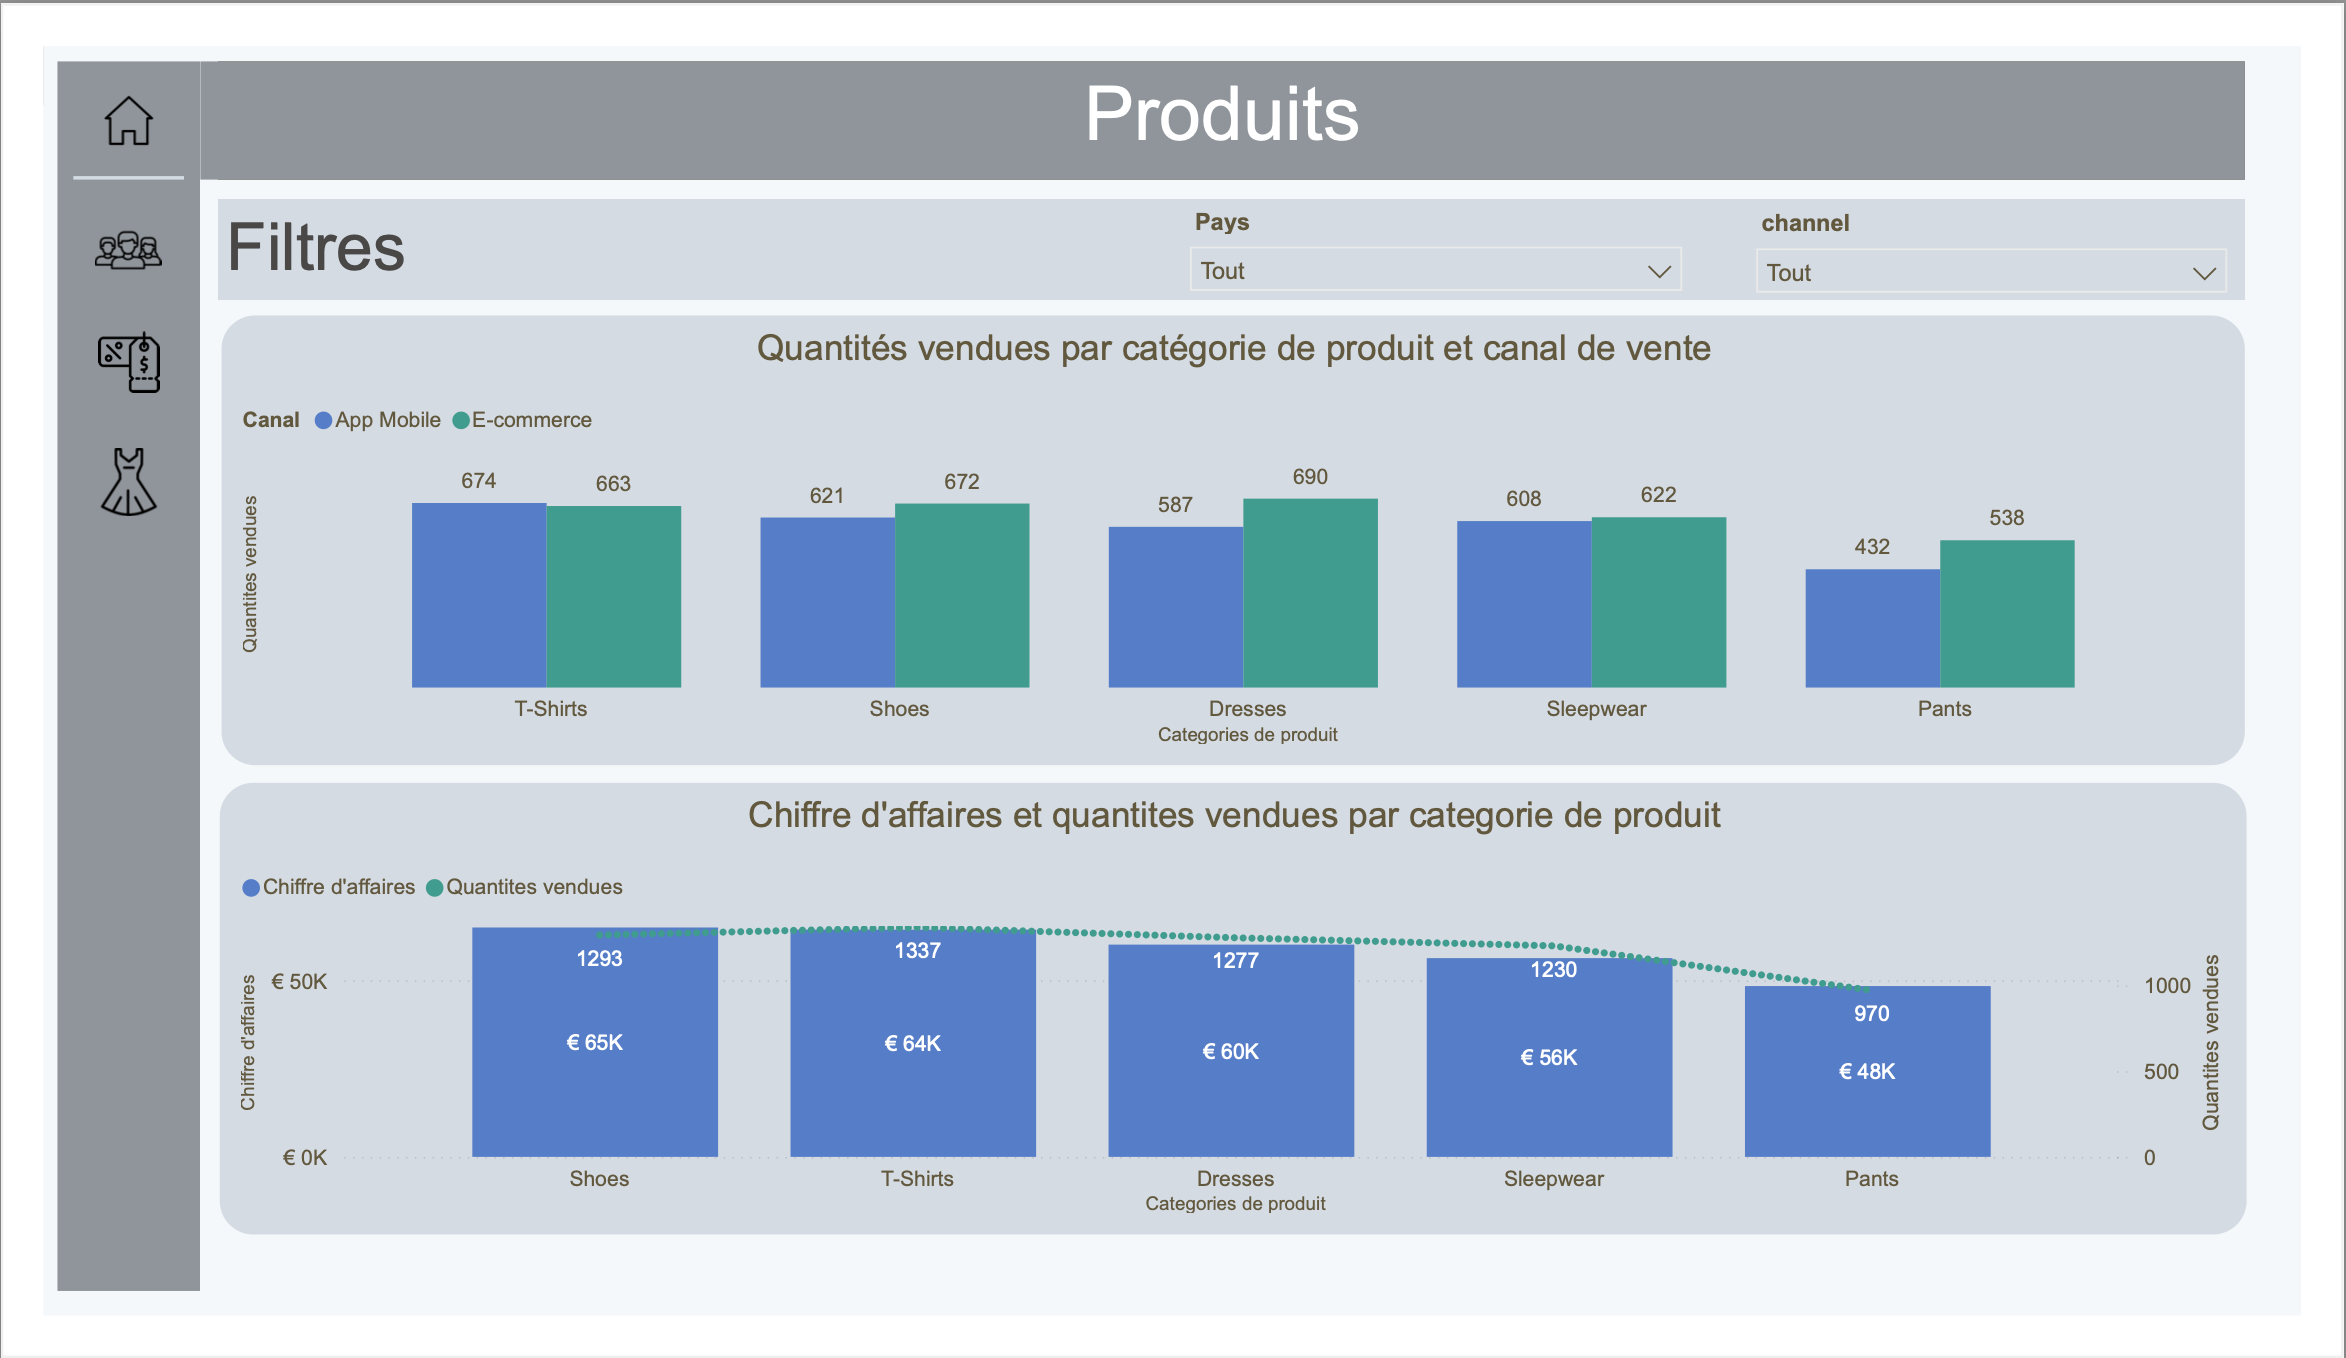

What the dashboard file says about the page in this screenshot:
{"tool":"powerbi","page":{"name":"Produits ","canvas":[1280,720],"ordinal":3},"visuals":[{"type":"shape","box":[99,8.9,1149,67.3],"z":0},{"type":"textbox","box":[89.5,8.7,1158.2,67.1],"z":1000},{"type":"shape","box":[7.8,8.8,81.7,697.4],"z":2000},{"type":"image","box":[33.1,20.4,31.1,44.7],"z":3000},{"type":"image","box":[29.2,86.6,37.9,57.4],"z":4000},{"type":"image","box":[29.2,162.4,37.9,35],"z":5000},{"type":"image","box":[25.3,227.6,46.7,39.9],"z":6000},{"type":"shape","box":[16.5,63.2,63.2,23.3],"z":7000},{"type":"clusteredColumnChart","title":"Quantités vendues par catégorie de produit et canal de vente","fields":{"Category":["Produits.category"],"Series":["Ventes_details.channel"],"Y":["Mesures.Total_quantite"]},"box":[101,152.5,1147.5,255.6],"z":8000},{"type":"lineStackedColumnComboChart","title":"Chiffre d''affaires et quantites vendues par categorie de produit","fields":{"Category":["Produits.category"],"Y":["Mesures.Total_ca"],"Y2":["Mesures.Total_quantite"]},"box":[100,418.2,1149.5,255.6],"z":9000},{"type":"shape","box":[99.4,87,1148.3,57.2],"z":10000},{"type":"slicer","fields":{"Values":["Ventes.country"]},"box":[640,87,299.5,57.2],"z":11000},{"type":"slicer","fields":{"Values":["Ventes_details.channel"]},"box":[960.6,88.2,287.1,55.9],"z":12000},{"type":"textbox","box":[99.4,88.2,300.7,55.9],"z":13000}]}

Visuals, with their boxes on the page's 1280x720 design canvas (x1, y1, x2, y2). These are canvas units, not pixel positions in the 2346x1358 screenshot, which may show the page scaled, cropped or inside an application window:
shape: x1=99 y1=9 x2=1248 y2=76
textbox: x1=90 y1=9 x2=1248 y2=76
shape: x1=8 y1=9 x2=90 y2=706
image: x1=33 y1=20 x2=64 y2=65
image: x1=29 y1=87 x2=67 y2=144
image: x1=29 y1=162 x2=67 y2=197
image: x1=25 y1=228 x2=72 y2=268
shape: x1=16 y1=63 x2=80 y2=86
"Quantités vendues par catégorie de produit et canal de vente" clusteredColumnChart: x1=101 y1=152 x2=1248 y2=408
"Chiffre d''affaires et quantites vendues par categorie de produit" lineStackedColumnComboChart: x1=100 y1=418 x2=1250 y2=674
shape: x1=99 y1=87 x2=1248 y2=144
slicer - Ventes.country: x1=640 y1=87 x2=940 y2=144
slicer - Ventes_details.channel: x1=961 y1=88 x2=1248 y2=144
textbox: x1=99 y1=88 x2=400 y2=144
